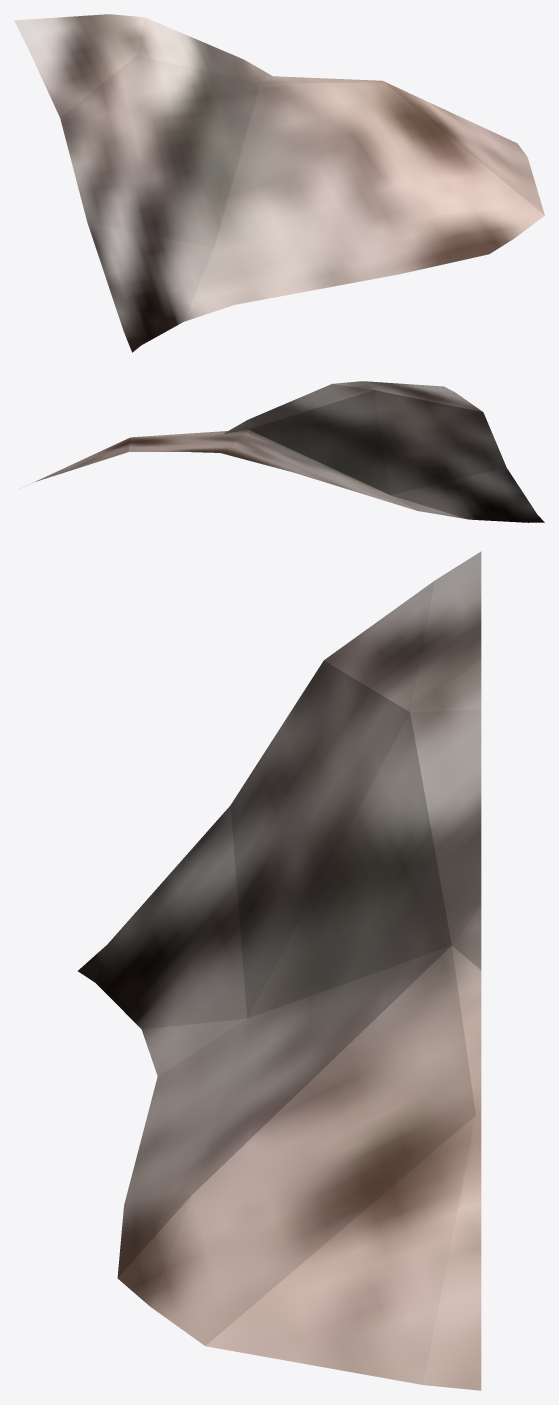
The picture shows the model from 3 angles, top to bottom: view 1: azimuth 30°, elevation 25°; view 2: azimuth 150°, elevation 25°; view 3: azimuth 270°, elevation 25°; orthographic projection. The views are drawn at different scales.
Bounding box in the file's own units: 0.1308 × 0.061 × 0.0532.
1 material, 1 textured.
